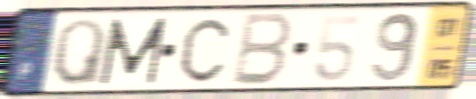5: (311, 13, 363, 84)
9: (369, 11, 419, 84)
B: (228, 11, 297, 89)
C: (177, 15, 232, 85)
M: (98, 16, 171, 88)
Q: (48, 16, 109, 88)
